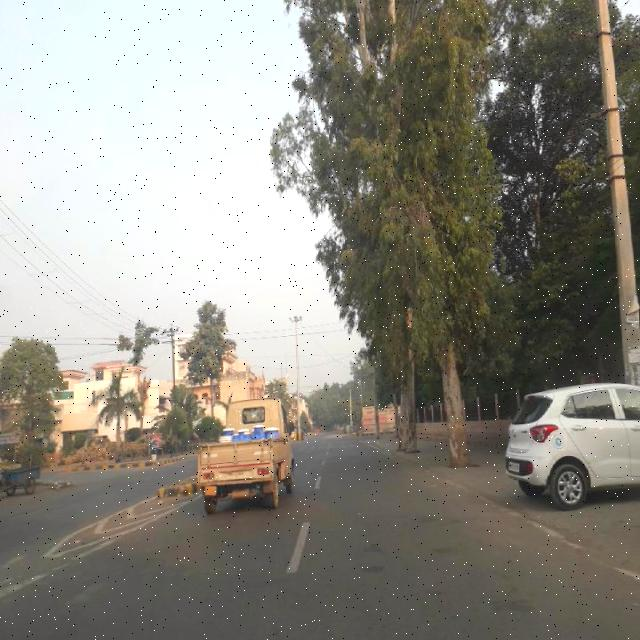D44: (546, 522, 640, 580), (455, 484, 540, 524)
